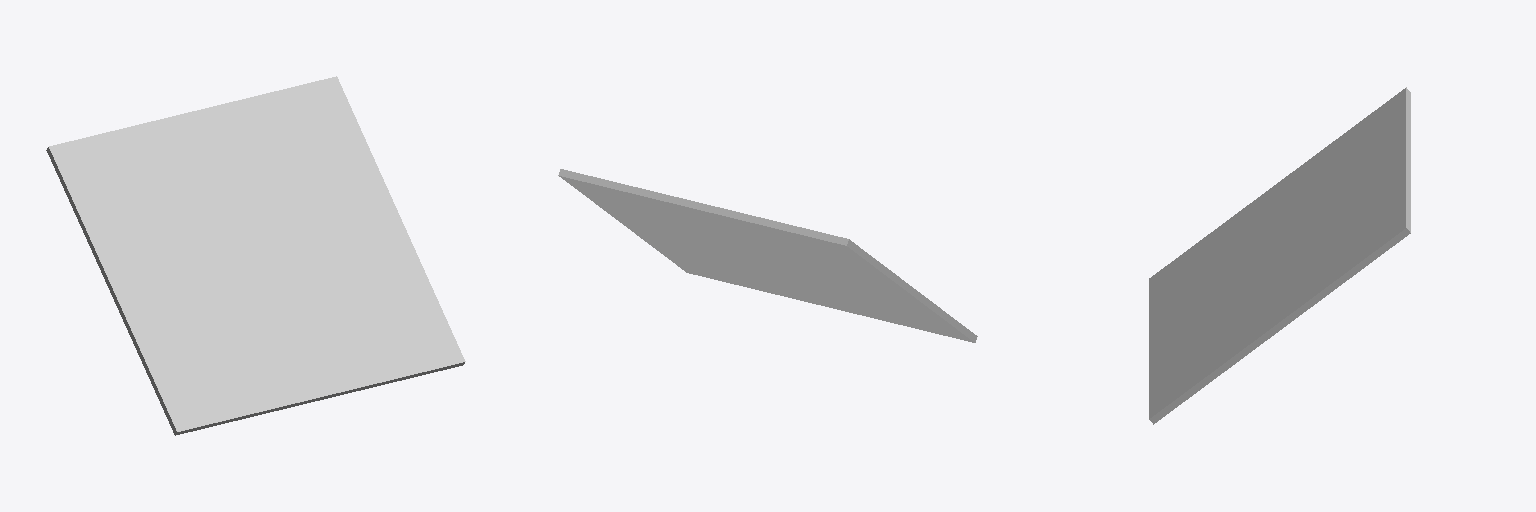
File: Grass LawnOBJ.obj
3 renders of one model, left to right at view 1: azimuth 30°, elevation 25°; view 2: azimuth 150°, elevation 25°; view 3: azimuth 270°, elevation 25°, orthographic.
Visible parts, largest first — view 1: node_id338_mesh_id339, node_id340_mesh_id341; view 2: node_id340_mesh_id341; view 3: node_id338_mesh_id339, node_id340_mesh_id341.
Part boxes in pixels (bbox=[...]): node_id338_mesh_id339: bbox=[49, 76, 465, 431]; node_id340_mesh_id341: bbox=[46, 147, 464, 435]; node_id340_mesh_id341: bbox=[558, 169, 977, 342]; node_id338_mesh_id339: bbox=[1149, 88, 1405, 418]; node_id340_mesh_id341: bbox=[1149, 87, 1410, 424].
Size of the model in its own units: 0.929 by 0.6054 by 0.7311.